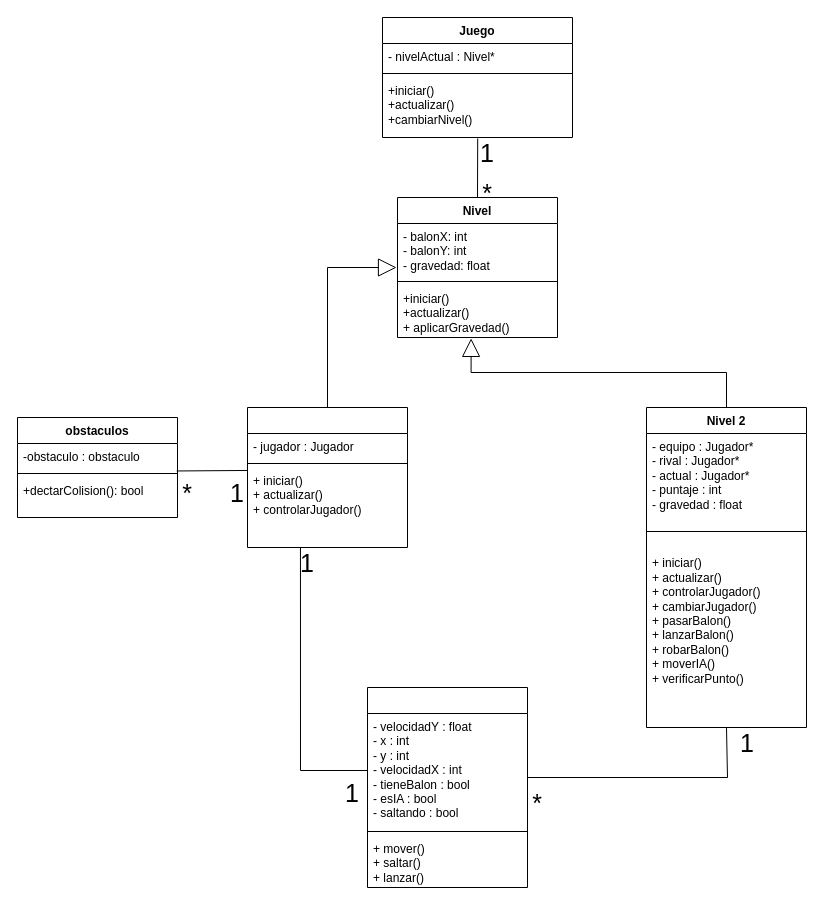
Image size: 824x908. Some labels were removed from this diagram. The shapes that lost their labels are listed below. From the top down, each one's box as (x1, y1, x2, y2) in pixels, then its label:
(246, 406, 408, 548): Nivel 1
(366, 686, 528, 888): Jugador
